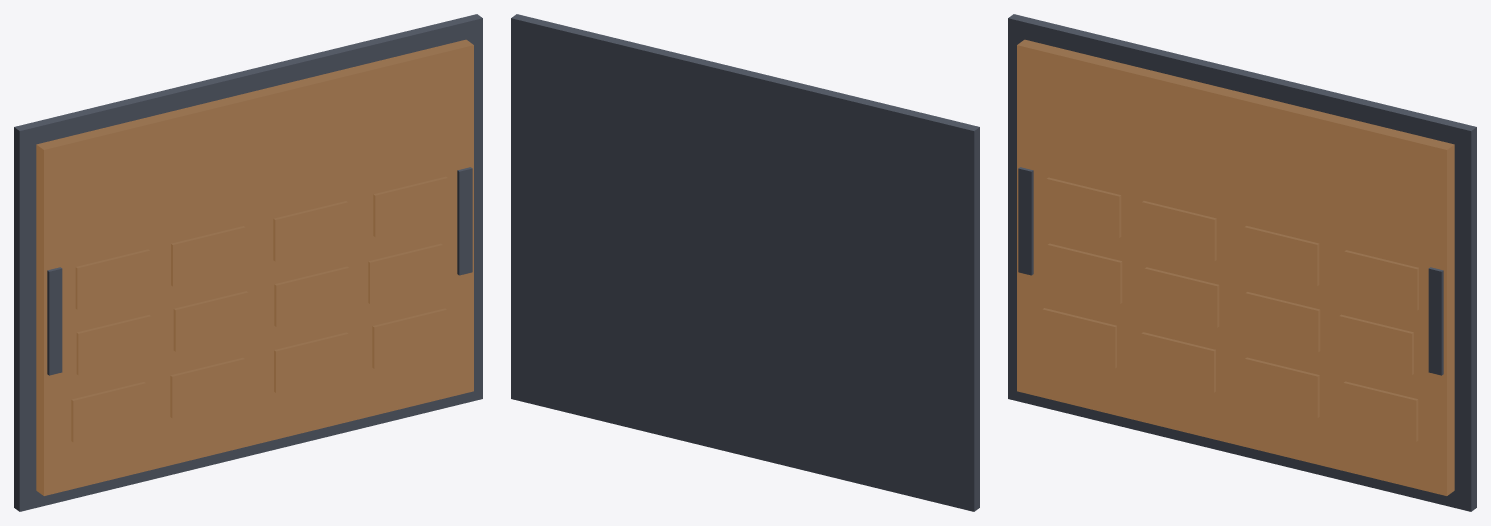
The model's file is panel.glb.
3 renders of one model, left to right at view 1: azimuth 30°, elevation 25°; view 2: azimuth 150°, elevation 25°; view 3: azimuth 330°, elevation 25°, orthographic.
Visible parts, largest first — view 1: panel; view 2: panel; view 3: panel.
Part boxes in pixels (x1,y1,x2,y2): panel: (14, 14, 482, 511); panel: (511, 14, 979, 511); panel: (1008, 14, 1476, 511).
Size of the model in its own units: 1.4 by 1.1 by 0.08.
